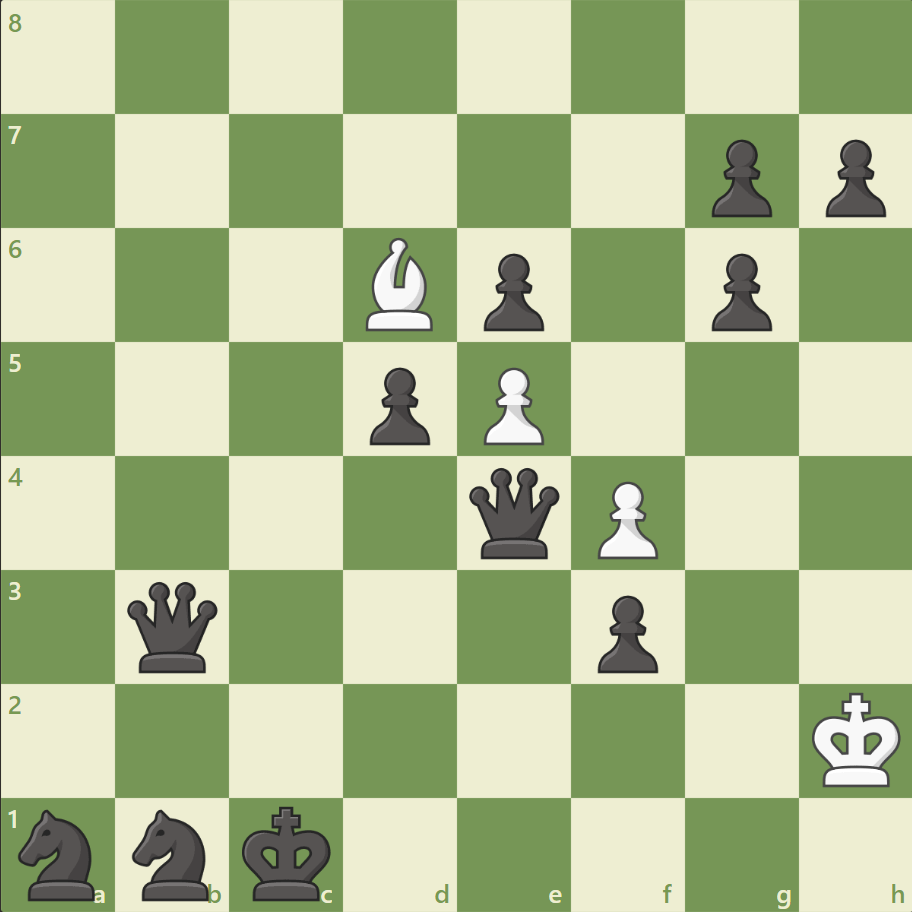B: (358, 233, 442, 336)
K: (806, 685, 906, 793)
P: (474, 359, 549, 450), (588, 473, 662, 564)
k: (238, 798, 338, 906)
n: (124, 802, 222, 904), (11, 802, 108, 904)
p: (701, 132, 776, 223), (474, 246, 549, 337), (701, 246, 776, 337), (815, 132, 889, 223), (361, 359, 435, 450), (588, 586, 662, 677)
q: (124, 576, 223, 676), (464, 463, 563, 562)
